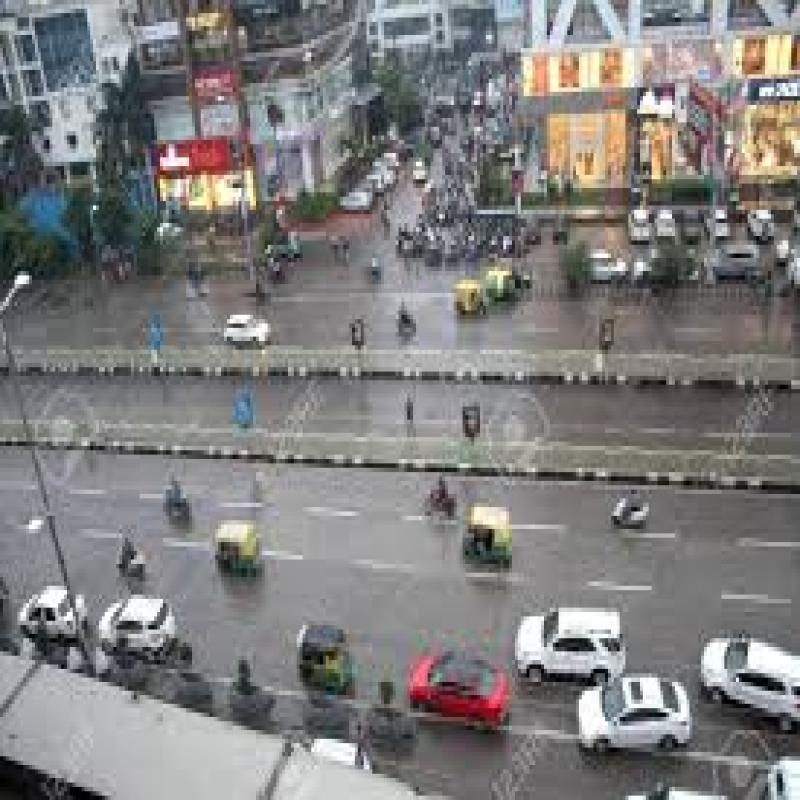car: (511, 581, 622, 683), (581, 683, 696, 756)
